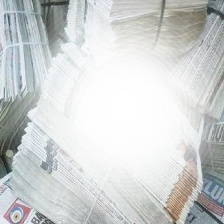news_paper: (3, 52, 214, 224), (62, 0, 208, 72), (0, 0, 61, 158), (152, 0, 224, 123), (0, 162, 66, 224), (172, 164, 223, 223), (191, 108, 224, 172)
